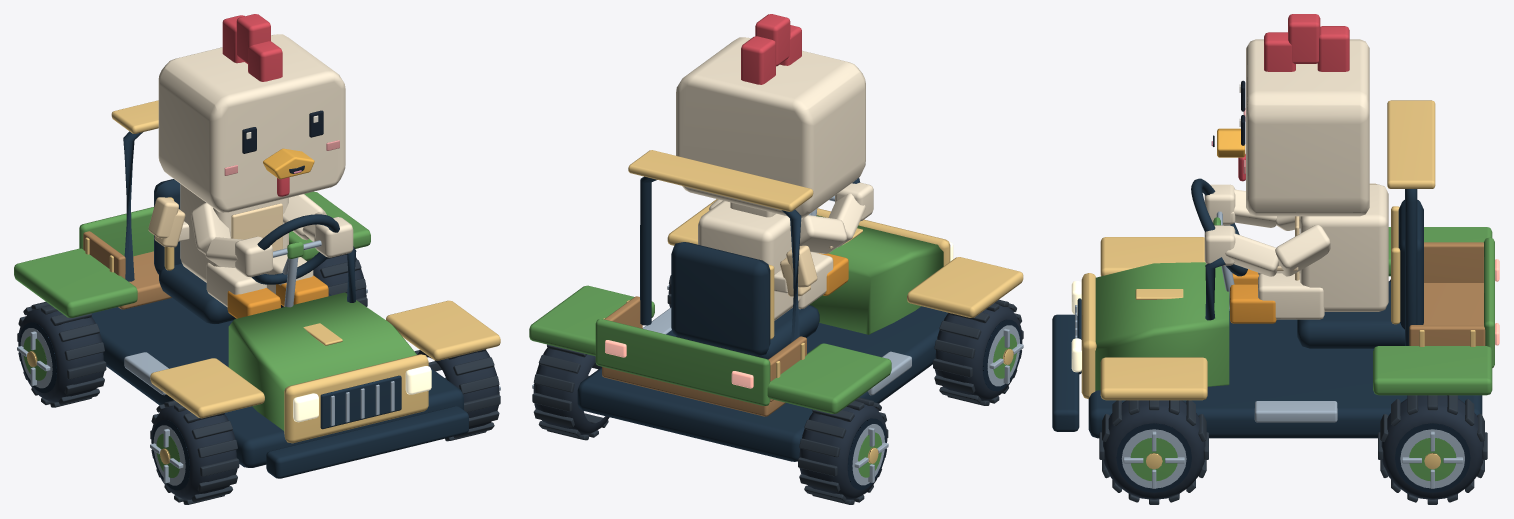
File: kart_ayam.glb
The picture shows the model from 3 angles, left to right: view 1: azimuth 30°, elevation 25°; view 2: azimuth 150°, elevation 25°; view 3: azimuth 270°, elevation 25°; orthographic projection. The views are drawn at different scales.
Parts seen in each view (by area): view 1: chassis, driver_pose, wheel_rl_spin, wheel_fl_spin, wheel_fr_spin, ear_l, steering, tail, wheel_rr_spin, eyes; view 2: chassis, driver_pose, wheel_rl_spin, wheel_fl_spin, wheel_rr_spin, ear_l, tail; view 3: chassis, driver_pose, wheel_rr_spin, wheel_fr_spin, ear_l, steering.
Part boxes in pixels (x1=…): chassis: x1=14, y1=100, x2=500, y2=478; driver_pose: x1=158, y1=34, x2=353, y2=318; wheel_rl_spin: x1=17, y1=301, x2=106, y2=407; wheel_fl_spin: x1=150, y1=400, x2=239, y2=504; wheel_fr_spin: x1=415, y1=349, x2=500, y2=441; ear_l: x1=222, y1=14, x2=282, y2=81; steering: x1=251, y1=214, x2=339, y2=284; tail: x1=148, y1=197, x2=189, y2=247; wheel_rr_spin: x1=307, y1=254, x2=367, y2=306; eyes: x1=242, y1=110, x2=323, y2=153; chassis: x1=529, y1=150, x2=1023, y2=461; driver_pose: x1=676, y1=37, x2=873, y2=320; wheel_rl_spin: x1=798, y1=397, x2=888, y2=504; wheel_fl_spin: x1=933, y1=299, x2=1023, y2=405; wheel_rr_spin: x1=532, y1=344, x2=609, y2=440; ear_l: x1=741, y1=14, x2=801, y2=84; tail: x1=774, y1=245, x2=817, y2=296; chassis: x1=1052, y1=100, x2=1499, y2=438; driver_pose: x1=1204, y1=39, x2=1388, y2=323; wheel_rr_spin: x1=1378, y1=395, x2=1487, y2=504; wheel_fr_spin: x1=1099, y1=400, x2=1208, y2=504; ear_l: x1=1264, y1=14, x2=1349, y2=71; steering: x1=1191, y1=178, x2=1247, y2=276.
Size of what is drawn, in the model's own units: 1.46 by 1.69 by 1.67.
